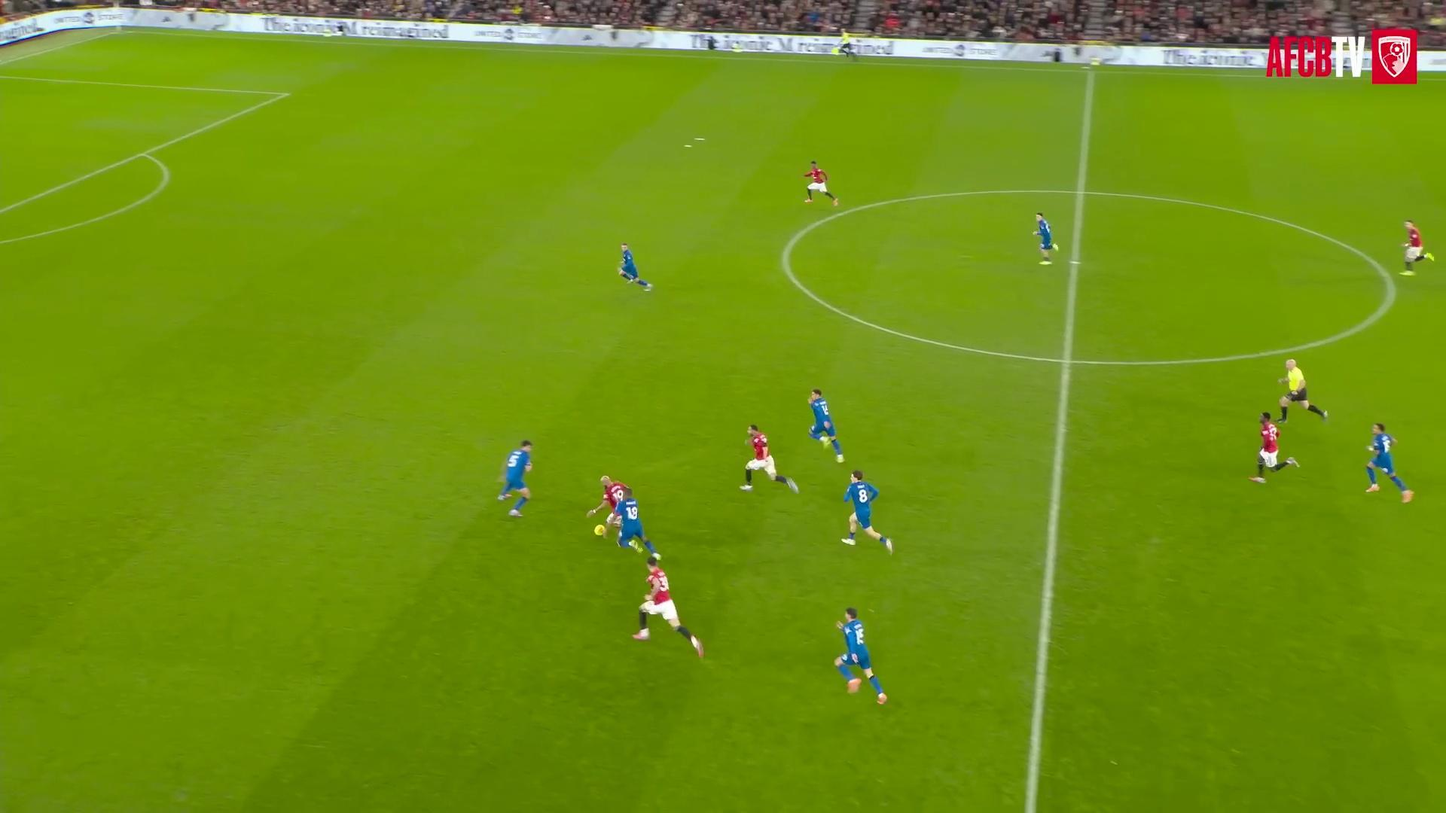football: (588, 522, 612, 543)
player: (632, 555, 703, 656), (834, 607, 886, 704), (841, 470, 893, 553), (740, 425, 798, 492), (1365, 423, 1413, 502), (1250, 413, 1298, 483), (613, 487, 660, 558), (808, 388, 844, 463), (498, 440, 532, 516), (587, 477, 627, 528), (1401, 220, 1434, 276), (620, 243, 652, 291), (805, 161, 838, 205), (1033, 212, 1056, 263)
referee: (1278, 359, 1327, 422), (834, 29, 856, 57)
